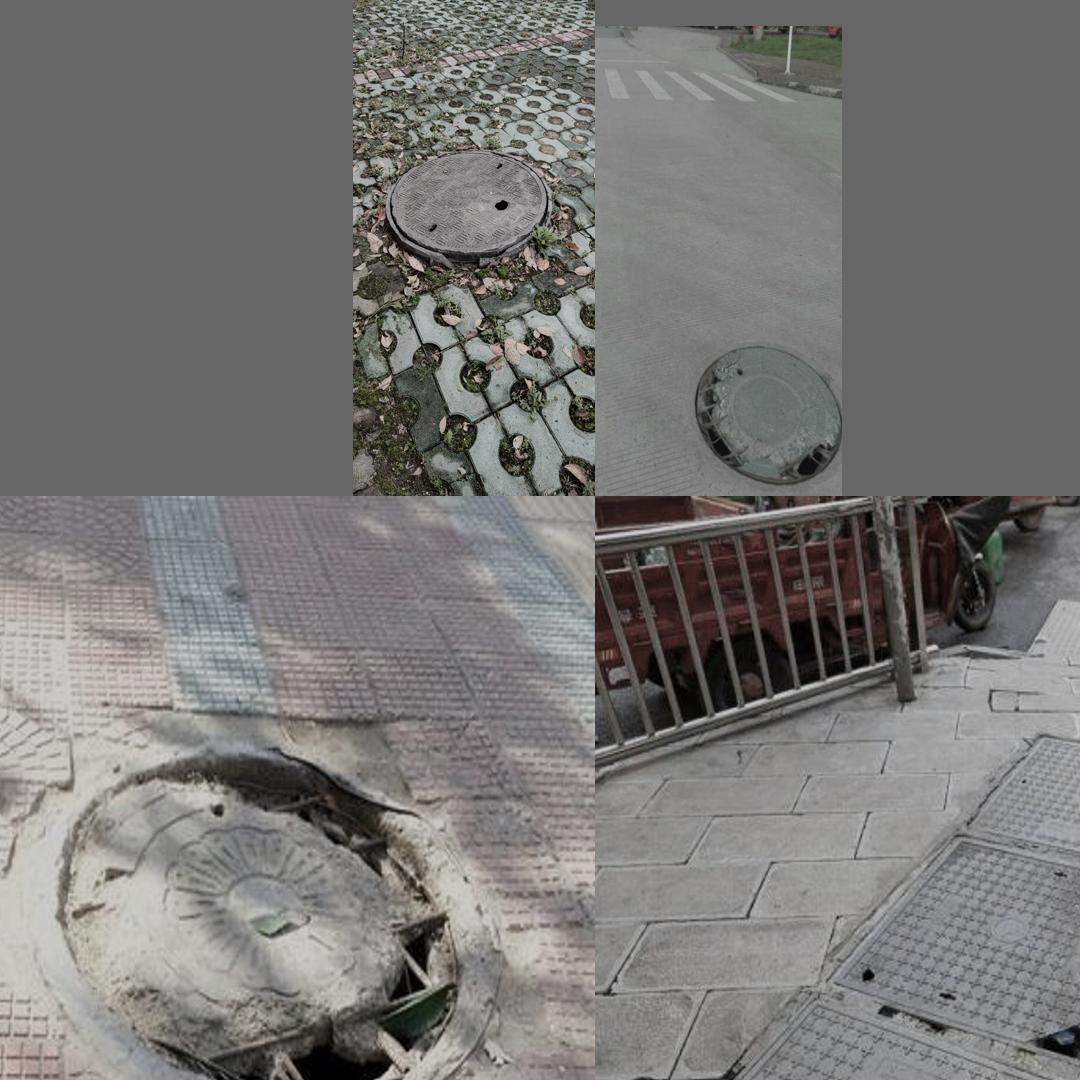broke: (15, 725, 498, 1080), (814, 849, 1080, 1068), (385, 147, 554, 269), (694, 347, 840, 485)
